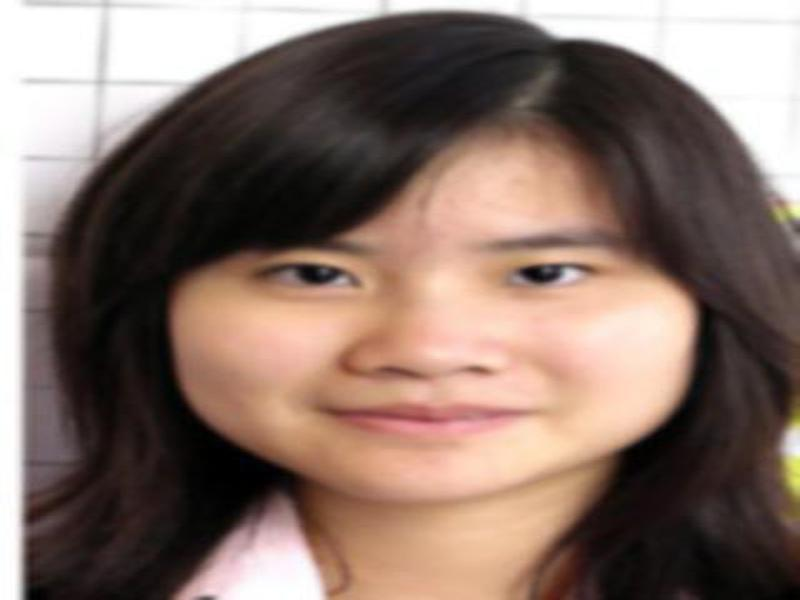without_mask: (172, 206, 697, 493)
